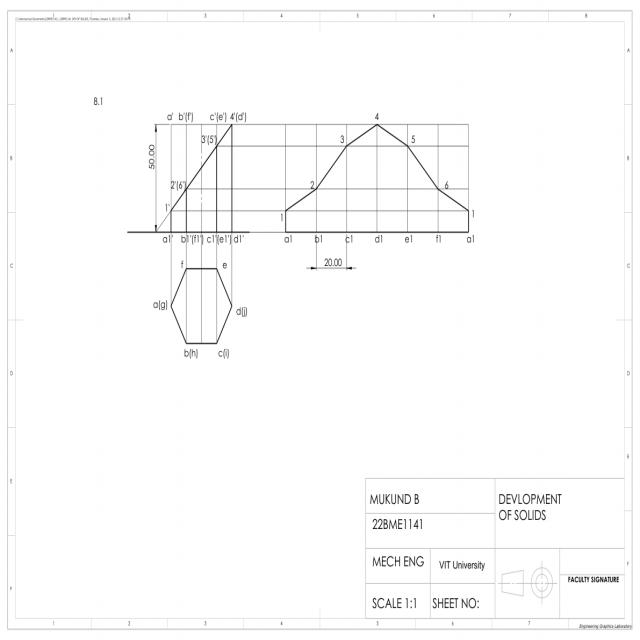Drawings: (130, 98, 486, 372)
